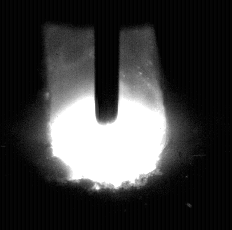arame: (95, 0, 121, 125)
poca: (49, 0, 167, 230)
